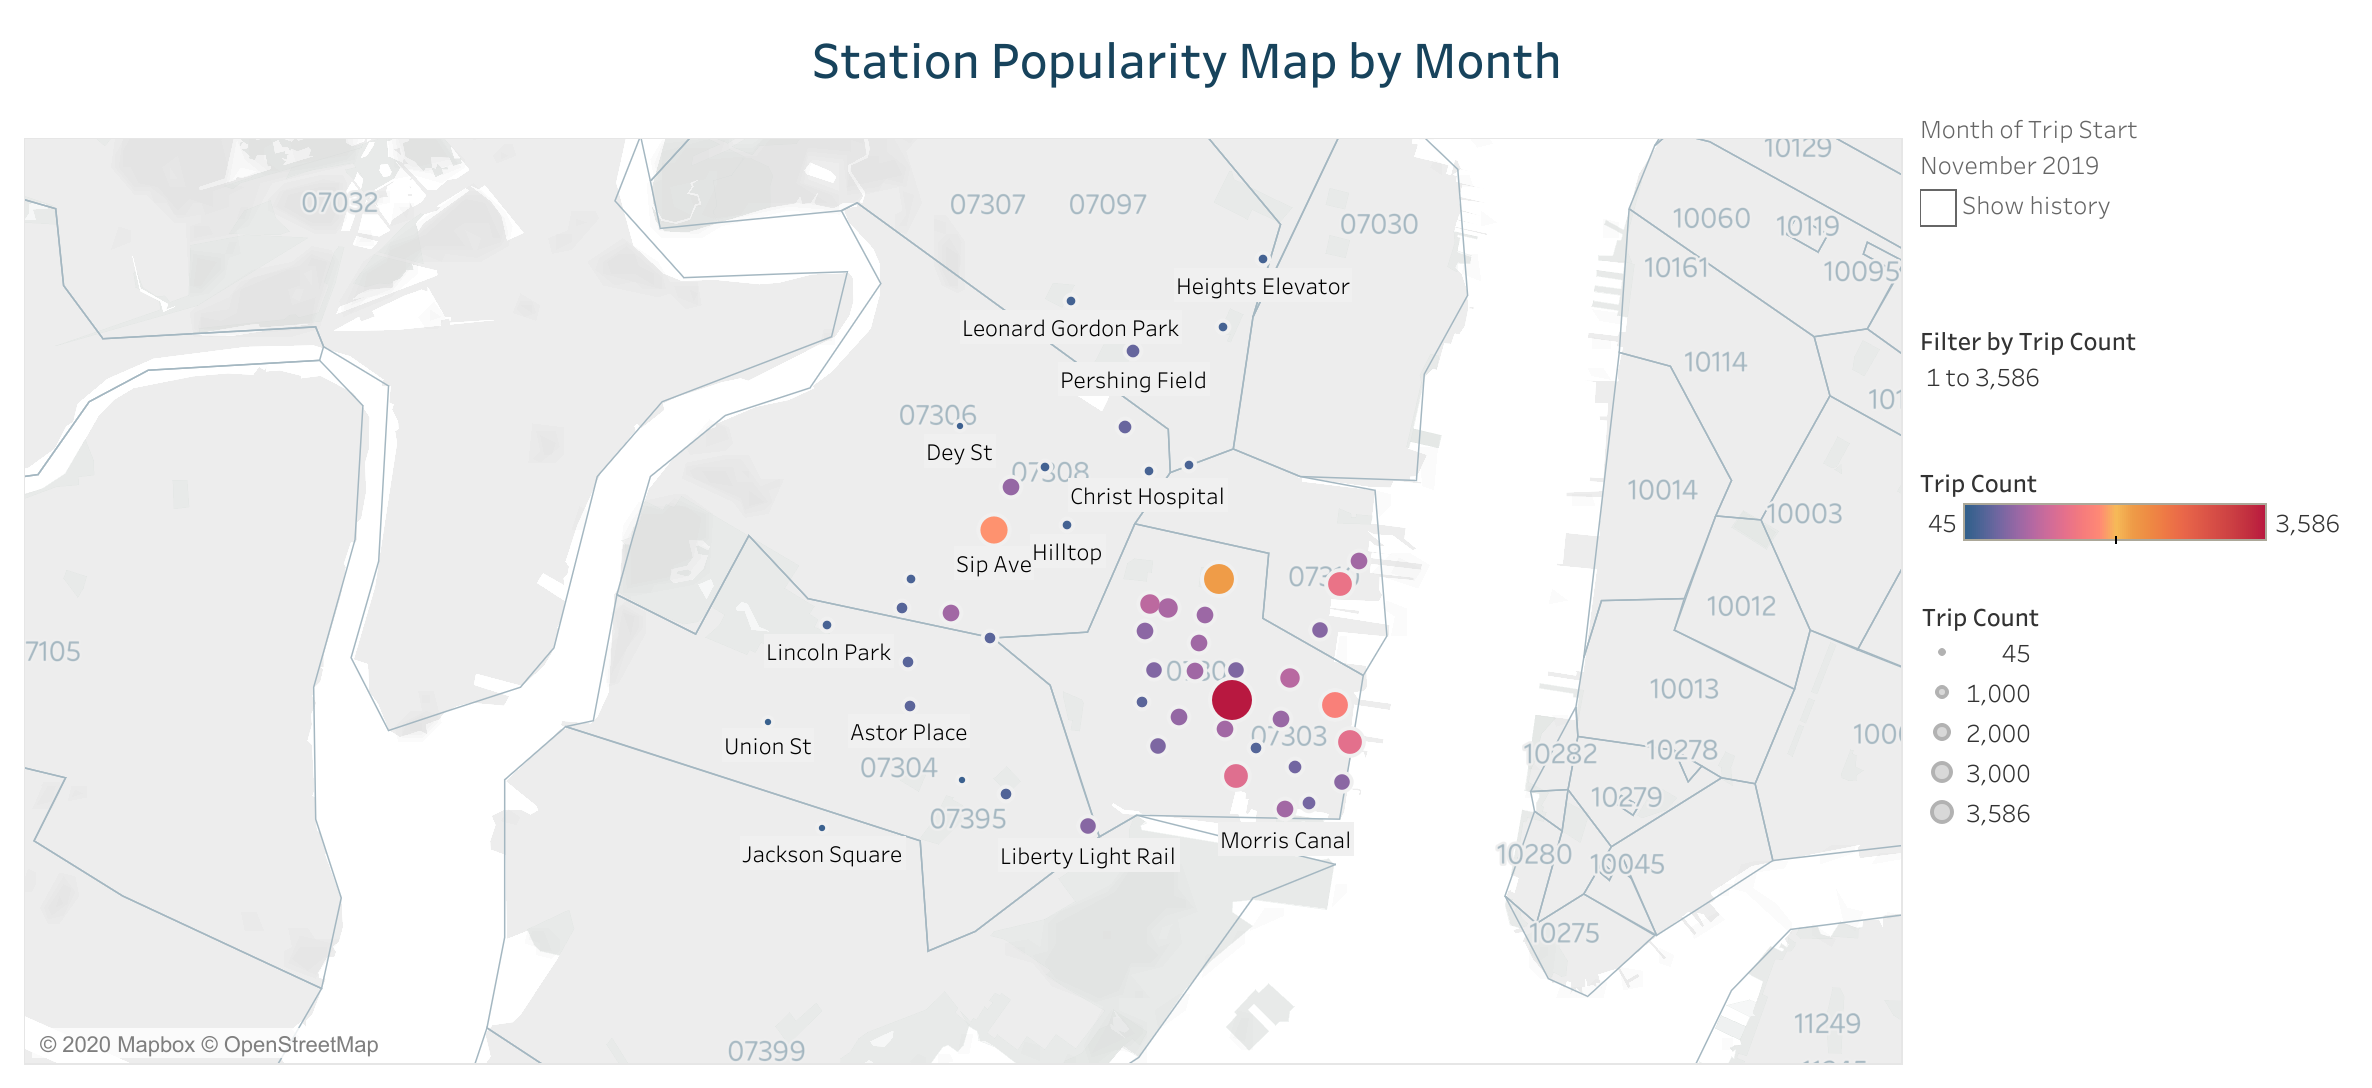

The page's visual inventory and layout, read from the dashboard file:
{"tool":"tableau","page":{"name":"Station Popularity Map by Week","canvas":[1000,1000],"units":"permille","ordinal":3},"visuals":[{"type":"title","box":[8.1,12.8,983.8,65.6]},{"type":"worksheet","title":"Advanced Map (2)","mark":"Automatic","rows":["start station latitude"],"cols":["start station longitude"],"box":[8.1,78.4,796.2,908.8]},{"type":"currpage","title":"Advanced Map (2)","box":[804.3,78.4,187.6,198.5]},{"type":"filter","title":"Advanced Map (2)","param":"[federated.0bl1ixe19uang21496f3y0pw2axb].[sum:Number of Records:qk]","box":[804.3,276.9,187.6,125.4]},{"type":"legend","title":"Advanced Map (2)","param":"[federated.0bl1ixe19uang21496f3y0pw2axb].[sum:Number of Records:qk]","box":[804.3,402.2,187.6,129.8]},{"type":"legend","title":"Advanced Map (2)","param":"[federated.0bl1ixe19uang21496f3y0pw2axb].[sum:Number of Records:qk]","box":[804.3,532,187.6,455.2]}]}

Visuals, with their boxes on the dashboard's canvas, which has no fixed pixel size, in thousandths of its width and height (x1, y1, x2, y2). These are canvas units, not pixel positions in the 2372x1088 screenshot, which may show the page scaled, cropped or inside an application window:
title: {"x1": 8, "y1": 13, "x2": 992, "y2": 78}
"Advanced Map (2)" worksheet: {"x1": 8, "y1": 78, "x2": 804, "y2": 987}
"Advanced Map (2)" currpage: {"x1": 804, "y1": 78, "x2": 992, "y2": 277}
"Advanced Map (2)" filter: {"x1": 804, "y1": 277, "x2": 992, "y2": 402}
"Advanced Map (2)" legend: {"x1": 804, "y1": 402, "x2": 992, "y2": 532}
"Advanced Map (2)" legend: {"x1": 804, "y1": 532, "x2": 992, "y2": 987}
